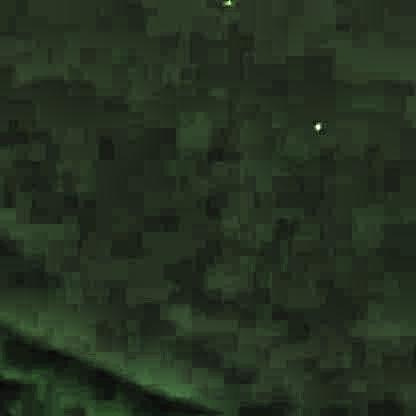golfball: (309, 120, 319, 130)
